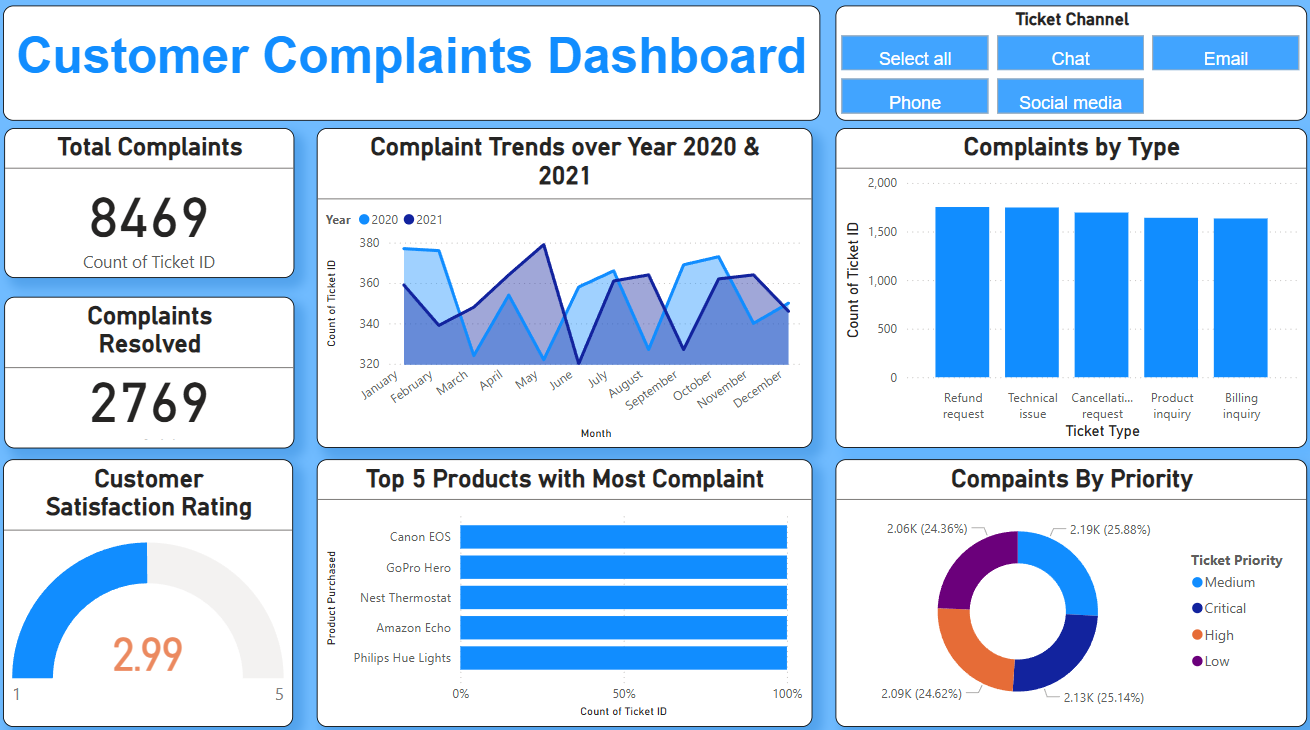

This screenshot's page, from the dashboard's own definition file:
{"tool":"powerbi","page":{"name":"Page 1","canvas":[1280,720],"ordinal":0},"visuals":[{"type":"card","title":"Total Complaints","fields":{"Values":["CountNonNull(6 1-CustomerSupportTickets.Ticket ID)"]},"box":[10.8,130.1,279.7,144.5],"z":0},{"type":"card","title":"Complaints Resolved","fields":{"Values":["CountNonNull(6 1-CustomerSupportTickets.Ticket ID)"]},"box":[10.8,293,279.7,146],"z":1000},{"type":"areaChart","title":"Complaint Trends over Year 2020 & 2021","fields":{"Y":["CountNonNull(6 1-CustomerSupportTickets.Ticket ID)"],"Category":["6 1-CustomerSupportTickets.Date of Purchase.Variation.Date Hierarchy.Month"],"Series":["6 1-CustomerSupportTickets.Date of Purchase.Variation.Date Hierarchy.Year"]},"box":[312,130.1,478,308.9],"z":2000},{"type":"columnChart","title":"Complaints by Type","fields":{"Y":["CountNonNull(6 1-CustomerSupportTickets.Ticket ID)"],"Category":["6 1-CustomerSupportTickets.Ticket Type"]},"box":[813.1,130.1,454.9,308.9],"z":3000},{"type":"donutChart","title":"Compaints By Priority","fields":{"Category":["6 1-CustomerSupportTickets.Ticket Priority"],"Y":["CountNonNull(6 1-CustomerSupportTickets.Ticket ID)"]},"box":[813.4,450.2,455.3,258.4],"z":4000},{"type":"hundredPercentStackedBarChart","title":"Top 5 Products with Most Complaint","fields":{"Category":["6 1-CustomerSupportTickets.Product Purchased"],"Y":["CountNonNull(6 1-CustomerSupportTickets.Ticket ID)"]},"box":[312,450,478,258],"z":5000},{"type":"gauge","title":"Customer Satisfaction Rating","fields":{"Y":["Avg(6 1-CustomerSupportTickets.Customer Satisfaction Rating)"],"MinValue":["Min(6 1-CustomerSupportTickets.Customer Satisfaction Rating)1"],"MaxValue":["Max(6 1-CustomerSupportTickets.Customer Satisfaction Rating)2"]},"box":[10.2,450.2,280.1,258.4],"z":6000},{"type":"textbox","box":[10.2,11.5,789.1,111.3],"z":7000},{"type":"advancedSlicerVisual","fields":{"Values":["6 1-CustomerSupportTickets.Ticket Channel"]},"box":[813.4,11.5,455.3,111.3],"z":8000}]}

Visuals, with their boxes in screenshot pixels (x1, y1, x2, y2), scaled from the page's 1280x720 canvas onto the 1310x730 screenshot:
"Total Complaints" card: bbox=(11, 132, 297, 278)
"Complaints Resolved" card: bbox=(11, 297, 297, 445)
"Complaint Trends over Year 2020 & 2021" areaChart: bbox=(319, 132, 809, 445)
"Complaints by Type" columnChart: bbox=(832, 132, 1298, 445)
"Compaints By Priority" donutChart: bbox=(832, 456, 1298, 718)
"Top 5 Products with Most Complaint" hundredPercentStackedBarChart: bbox=(319, 456, 809, 718)
"Customer Satisfaction Rating" gauge: bbox=(10, 456, 297, 718)
textbox: bbox=(10, 12, 818, 125)
advancedSlicerVisual - 6 1-CustomerSupportTickets.Ticket Channel: bbox=(832, 12, 1298, 125)
